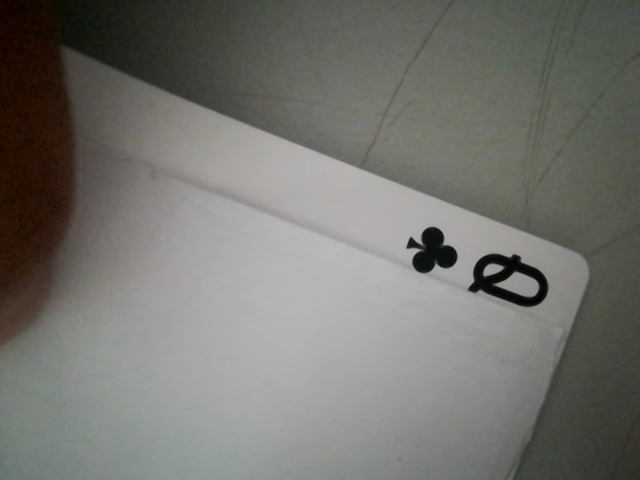mh q: (390, 221, 568, 316)
